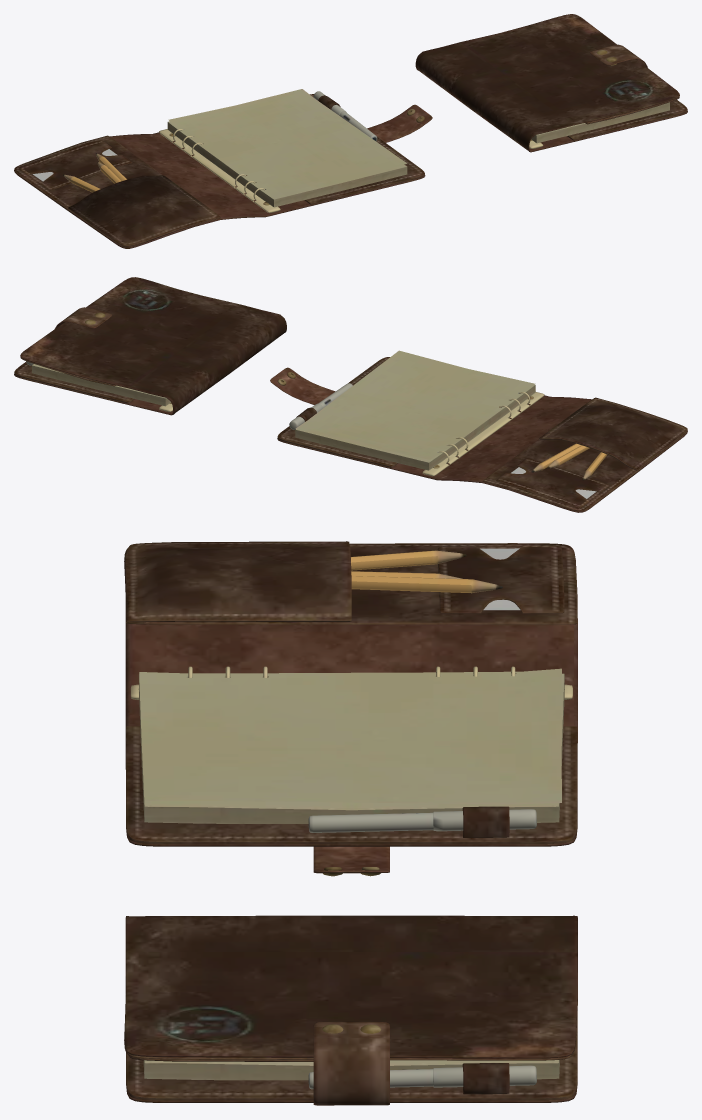
File: binder_notebook.glb
The picture shows the model from 3 angles, top to bottom: view 1: azimuth 30°, elevation 25°; view 2: azimuth 150°, elevation 25°; view 3: azimuth 270°, elevation 25°; orthographic projection. The views are drawn at different scales.
Visible parts, largest first — view 1: binder_notebook, binder_notebook_closed; view 2: binder_notebook, binder_notebook_closed; view 3: binder_notebook, binder_notebook_closed.
Boxes of the visible parts, x1,y1,x2,y2 form: binder_notebook: (14, 89, 432, 248); binder_notebook_closed: (415, 14, 687, 152); binder_notebook: (270, 350, 687, 512); binder_notebook_closed: (14, 277, 286, 415); binder_notebook: (124, 541, 577, 876); binder_notebook_closed: (124, 915, 577, 1105).
Size of the model in its own units: 0.584 by 0.0252 by 0.2.
Materials: 1 (1 with a texture image).
